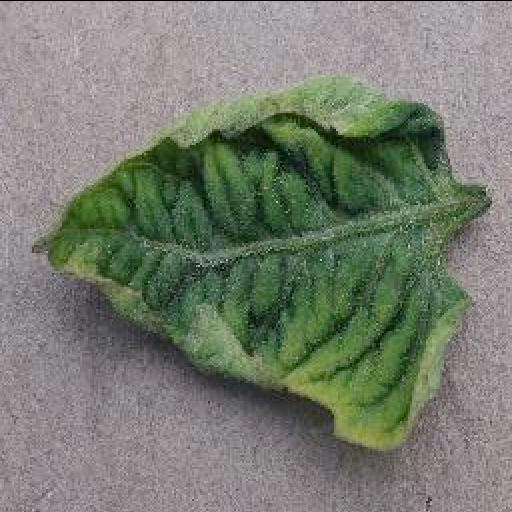disease_tomato: (30, 80, 472, 454)
